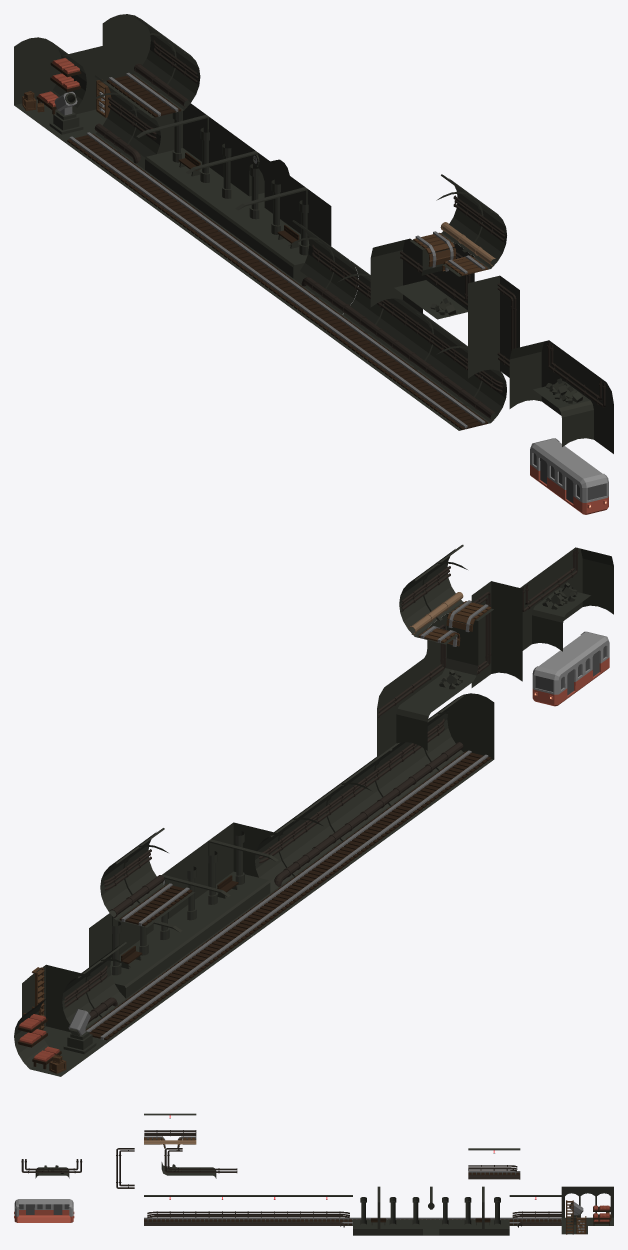
The model's file is ExportedBlenderFBXFile.fbx.
3 renders of one model, top to bottom at view 1: azimuth 30°, elevation 25°; view 2: azimuth 150°, elevation 25°; view 3: azimuth 270°, elevation 25°, orthographic. The views are drawn at different scales.
Visible parts, largest first — view 1: Tube 1 dead start, Station 1 Start, Connection 3, Station 1 middle, Bunker 1, Station 1 end, Connection 1, Tube 1 middle pit down, Connection 2, Tube 1 start, Tube 1 middle pit up, Tube 1 end (+4 smaller); view 2: Station 1 end, Connection 1, Tube 1 dead end, Connection 3, Station 1 Start, Bunker 1, Station 1 middle, Tube 1 dead start, Tube 1 middle pit down, Tube 1 middle, Tube 1 start, Tube 1 middle pit up (+4 smaller); view 3: Bunker 1, Metro, Station 1 end, Station 1 Start, Station 1 middle, Tube 1 dead start, Tube 1 middle pit down, Tube 1 middle, Tube 1 middle pit up, Tube 1 start, Tube 1 end, Tube 1 dead end (+4 smaller).
Part boxes in pixels (box(x1,y1,x2,y2)): Tube 1 dead start: box(102, 14, 200, 117); Station 1 Start: box(113, 103, 232, 213); Connection 3: box(509, 340, 613, 453); Station 1 middle: box(163, 134, 289, 249); Bunker 1: box(14, 37, 111, 141); Station 1 end: box(212, 170, 331, 286); Connection 1: box(370, 238, 474, 319); Tube 1 middle pit down: box(410, 174, 506, 276); Connection 2: box(468, 275, 519, 378); Tube 1 start: box(261, 220, 358, 322); Tube 1 middle pit up: box(360, 299, 457, 394); Tube 1 end: box(63, 75, 160, 177); Station 1 end: box(185, 822, 301, 935); Connection 1: box(377, 613, 478, 757); Tube 1 dead end: box(399, 693, 494, 794); Connection 3: box(520, 547, 613, 651); Station 1 Start: box(89, 913, 204, 1006); Bunker 1: box(14, 964, 108, 1076); Station 1 middle: box(137, 858, 252, 970); Tube 1 dead start: box(100, 828, 194, 927); Tube 1 middle pit down: box(399, 544, 493, 646); Tube 1 middle: box(303, 765, 397, 865); Tube 1 start: box(255, 801, 349, 900); Tube 1 middle pit up: box(351, 742, 445, 829); Bunker 1: box(561, 1186, 613, 1234); Metro: box(14, 1199, 74, 1222); Station 1 end: box(353, 1186, 405, 1235); Station 1 Start: box(457, 1186, 509, 1235); Station 1 middle: box(405, 1186, 457, 1235); Tube 1 dead start: box(468, 1148, 520, 1179); Tube 1 middle pit down: box(144, 1113, 196, 1150); Tube 1 middle: box(248, 1195, 300, 1225); Tube 1 middle pit up: box(196, 1195, 248, 1225); Tube 1 start: box(300, 1195, 352, 1227); Tube 1 end: box(509, 1195, 561, 1227); Tube 1 dead end: box(144, 1195, 196, 1225).
Bounding box in the file's own units: 13.35 × 29.19 × 138.
